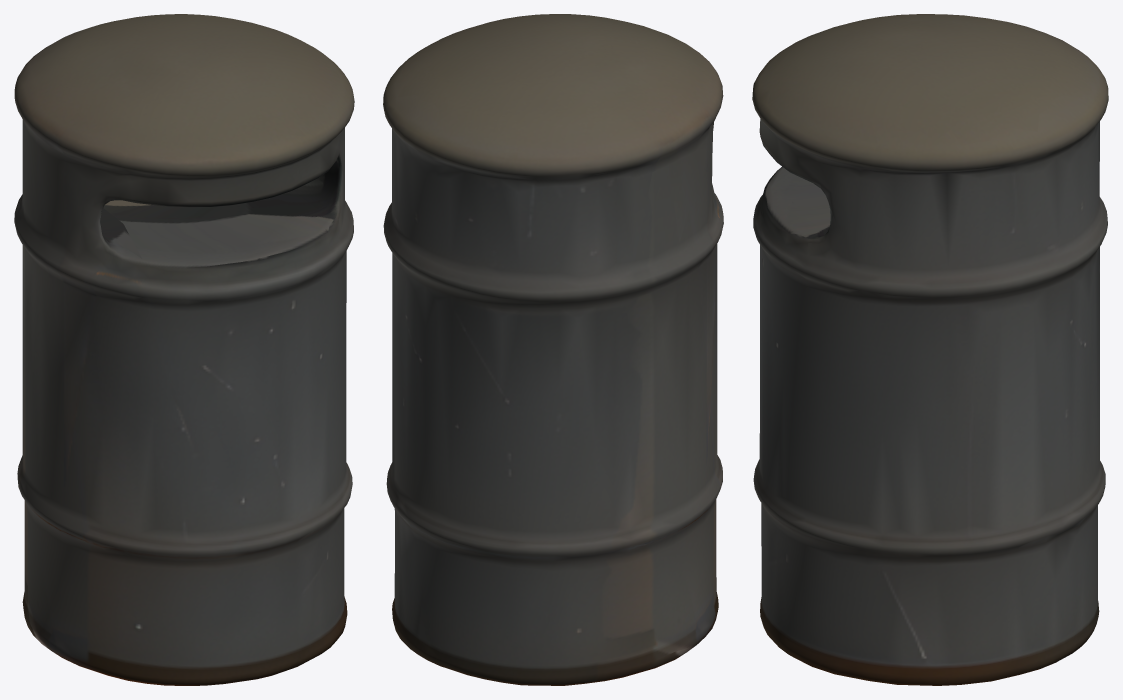
Rendered from Trash.fbx.
The picture shows the model from 3 angles, left to right: view 1: azimuth 30°, elevation 25°; view 2: azimuth 150°, elevation 25°; view 3: azimuth 270°, elevation 25°; orthographic projection.
Visible parts, largest first — view 1: model.005; view 2: model.005; view 3: model.005.
Boxes of the visible parts, x1,y1,x2,y2 form: model.005: [14, 14, 354, 685]; model.005: [383, 14, 723, 685]; model.005: [752, 14, 1108, 685].
Size of the model in its own units: 44.72 by 84.09 by 47.1.
